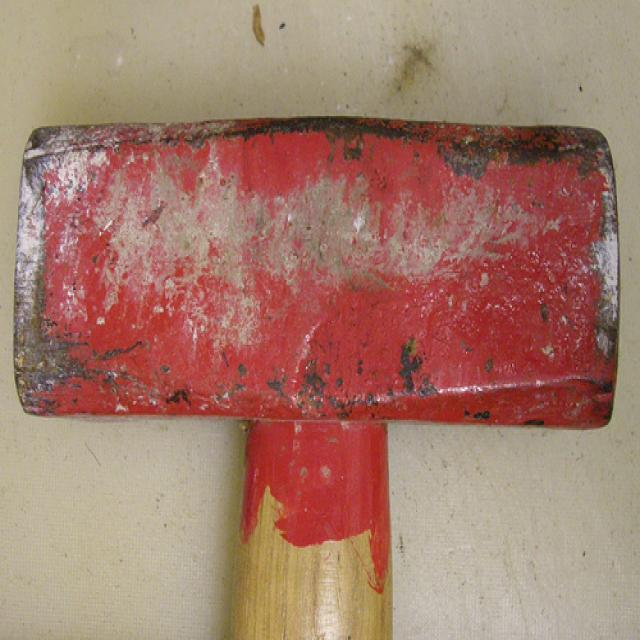hammer: (0, 107, 626, 640)
